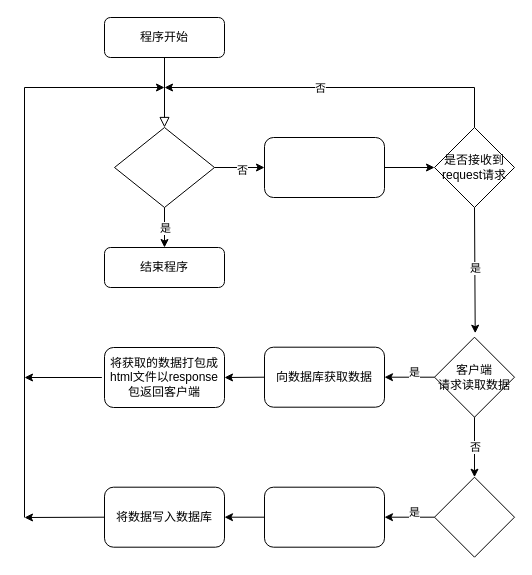
This 532x575 diagram has some shape labels left out. The box of each missing label's shape, as (x1, y1, x2, y2) in pixels:
客户端 请求写入数据: (434, 476, 514, 557)
是否收到ctrl+c 结束程序: (114, 126, 214, 208)
监听ip:端口上的request包: (264, 136, 384, 198)
解析request包中的数据: (264, 486, 384, 547)
